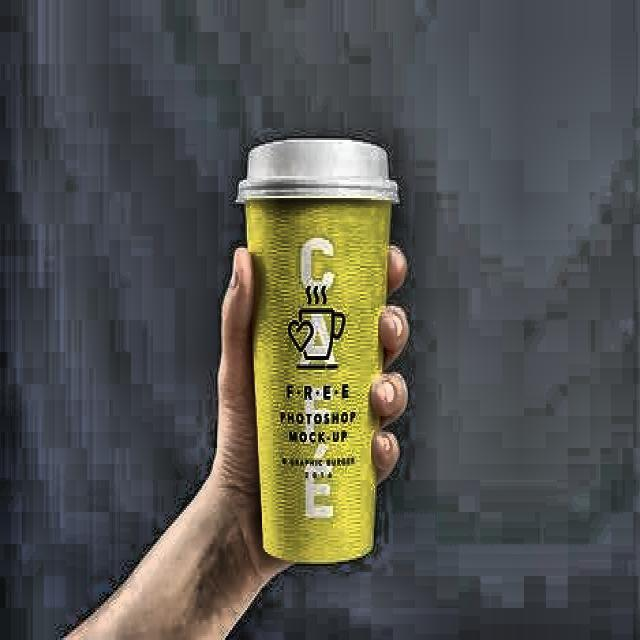Cup: (222, 160, 403, 565)
